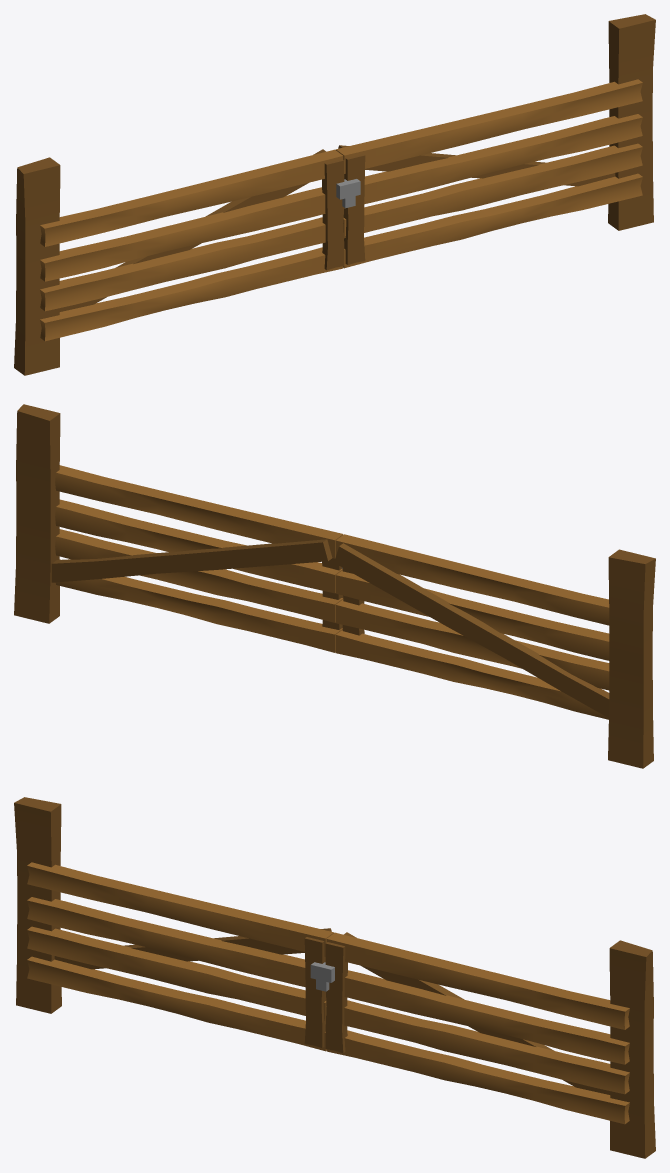
Rendered from FenceGate.fbx.
3 views of the same model, one above another, from view 1: azimuth 30°, elevation 25°; view 2: azimuth 150°, elevation 25°; view 3: azimuth 330°, elevation 25° (orthographic).
Visible parts, largest first — view 1: pCube11; view 2: pCube11; view 3: pCube11.
Boxes of the visible parts, x1,y1,x2,y2 form: pCube11: [14, 14, 655, 375]; pCube11: [14, 404, 655, 768]; pCube11: [14, 797, 655, 1158].
Size of the model in its own units: 14.08 by 4.31 by 0.8123.
